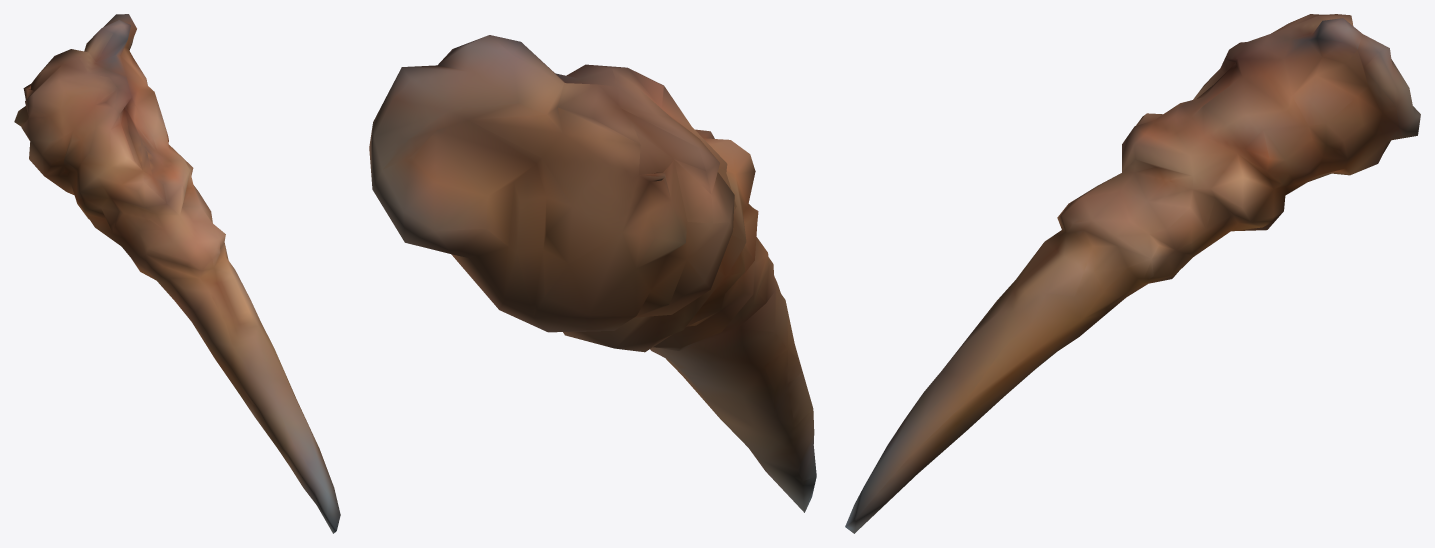
The model's file is needle.glb.
The picture shows the model from 3 angles, left to right: view 1: azimuth 30°, elevation 25°; view 2: azimuth 150°, elevation 25°; view 3: azimuth 270°, elevation 25°; orthographic projection. The views are drawn at different scales.
Parts seen in each view (by area): view 1: model; view 2: model; view 3: model.
Boxes of the visible parts, left/top/right/bottom form: model: left=14, top=14, right=340, bottom=533; model: left=369, top=35, right=816, bottom=512; model: left=845, top=14, right=1420, bottom=533.
Size of the model in its own units: 0.1484 by 0.376 by 0.3991.
1 material, 1 textured.
